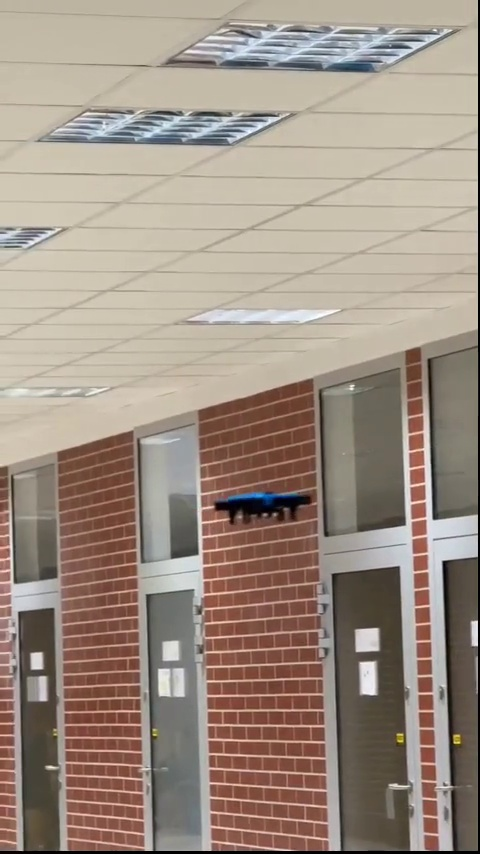drone: (216, 487, 318, 524)
